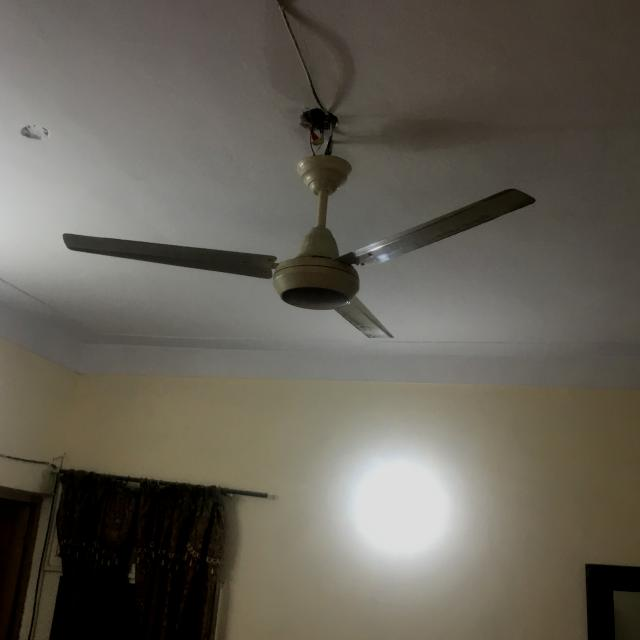off: (55, 178, 542, 347)
